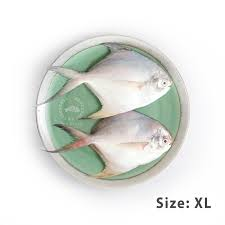Ikan Bawal: (38, 46, 176, 118), (49, 120, 179, 185)
